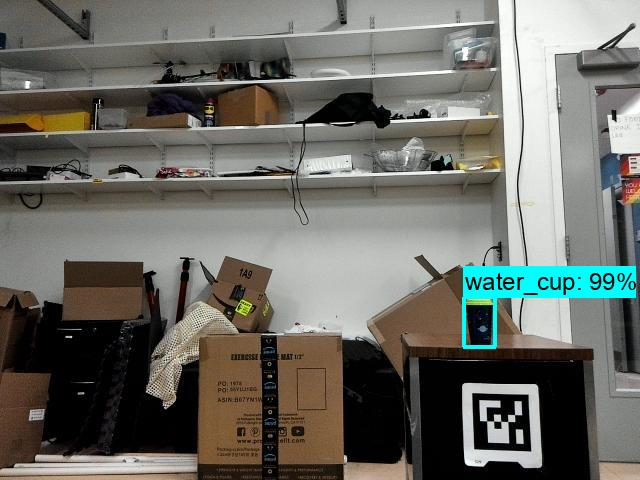water_cup: (463, 297, 496, 347)
